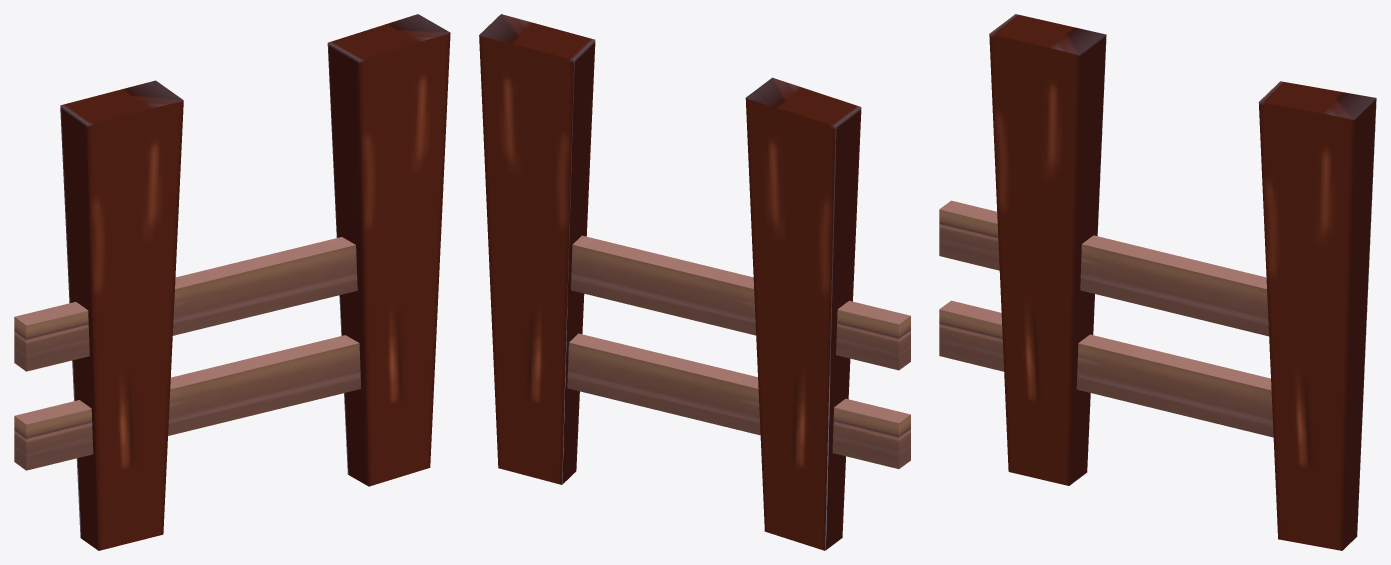
Rendered from fence_end.gltf.
3 renders of one model, left to right at view 1: azimuth 30°, elevation 25°; view 2: azimuth 150°, elevation 25°; view 3: azimuth 330°, elevation 25°, orthographic.
Visible parts, largest first — view 1: FenceEndMesh; view 2: FenceEndMesh; view 3: FenceEndMesh.
Boxes of the visible parts, x1,y1,x2,y2 form: FenceEndMesh: [14, 14, 450, 550]; FenceEndMesh: [479, 14, 910, 550]; FenceEndMesh: [939, 14, 1376, 550].
Size of what is drawn, in the model's own units: 0.8828 by 0.883 by 0.1103.
Materials: 1 (1 with a texture image).
